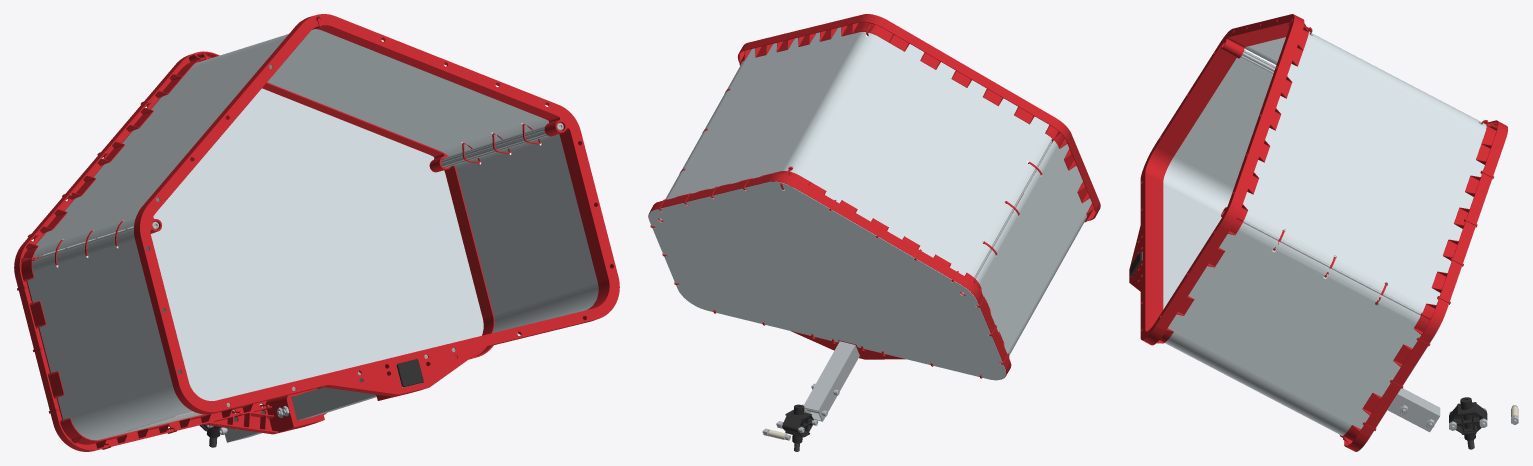
File: cell-red-audience.glb
The picture shows the model from 3 angles, left to right: view 1: azimuth 30°, elevation 25°; view 2: azimuth 150°, elevation 25°; view 3: azimuth 270°, elevation 25°; orthographic projection. The views are drawn at different scales.
Visible parts, largest first — view 1: hive-red pivot-local visual; view 2: hive-red pivot-local visual; view 3: hive-red pivot-local visual.
Boxes of the visible parts, bbox=[...] form: hive-red pivot-local visual: bbox=[14, 14, 619, 451]; hive-red pivot-local visual: bbox=[648, 14, 1100, 451]; hive-red pivot-local visual: bbox=[1129, 14, 1518, 451].
Size of the model in its own units: 0.5349 by 0.589 by 0.4814.
